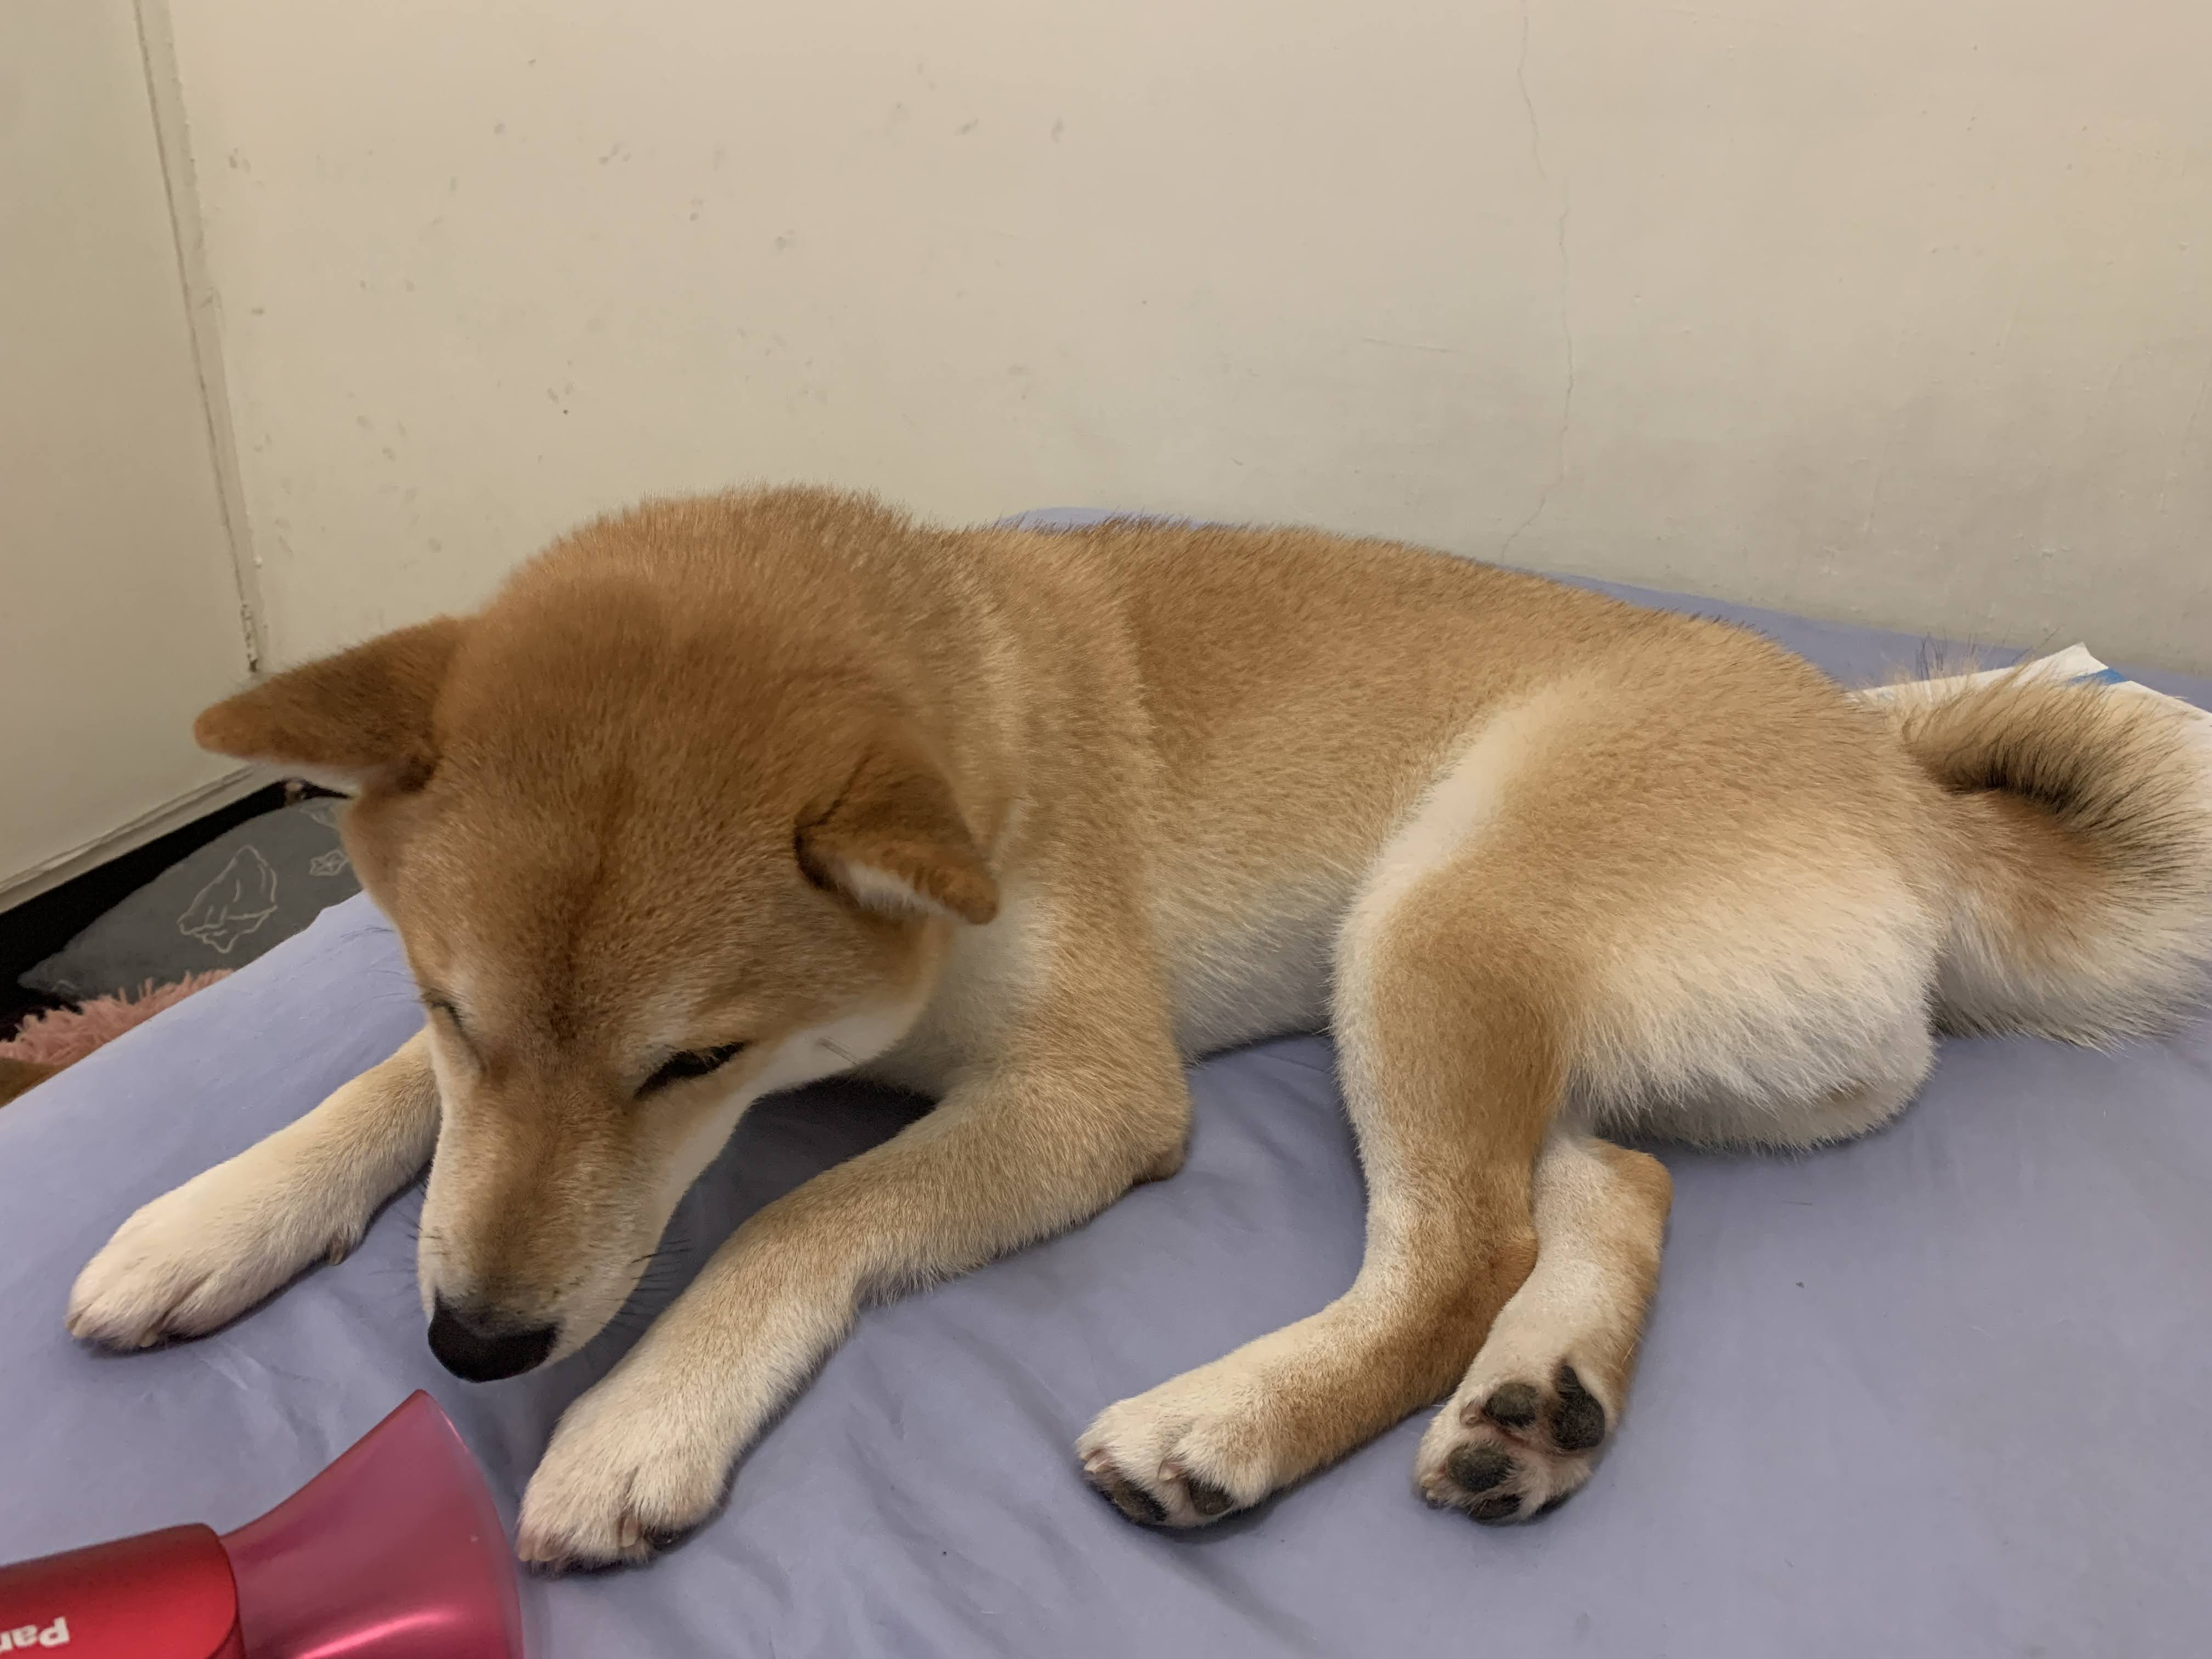Get down: (68, 469, 2212, 1621)
